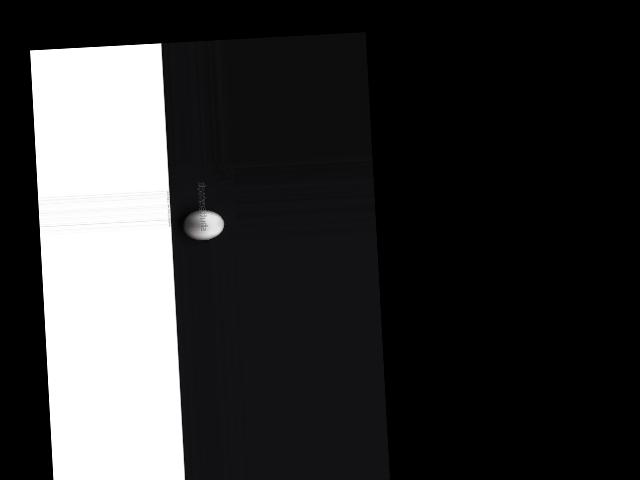egg: (182, 209, 225, 241)
